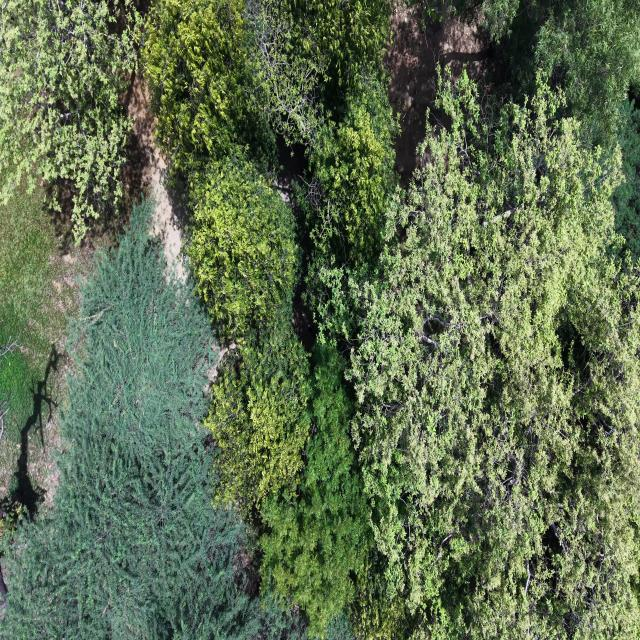DRY_AREA: (0, 206, 127, 535), (0, 217, 125, 510), (0, 208, 96, 511), (384, 0, 501, 182), (385, 0, 499, 182), (385, 0, 497, 181), (126, 76, 185, 281)
VEGETATION_TREE: (0, 0, 639, 639), (348, 73, 639, 638), (173, 3, 397, 635), (2, 205, 301, 638), (3, 206, 248, 638), (143, 0, 308, 513), (186, 157, 308, 512), (0, 0, 139, 241), (261, 346, 373, 635), (299, 67, 398, 340), (452, 0, 639, 142), (0, 189, 77, 519), (143, 0, 275, 178), (247, 0, 391, 151), (187, 157, 299, 340), (205, 321, 309, 513), (308, 69, 397, 266), (523, 0, 639, 141), (272, 0, 392, 110), (0, 190, 74, 366), (248, 3, 326, 144), (0, 193, 54, 358), (613, 101, 639, 261), (0, 334, 24, 438)
